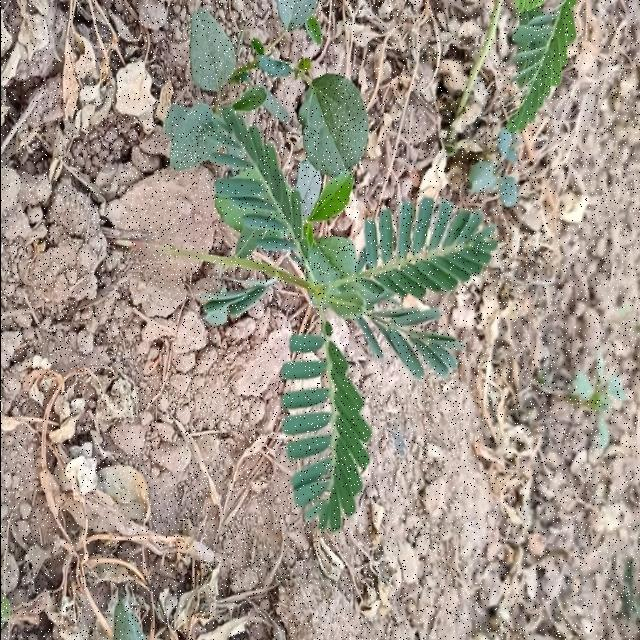plant: (136, 75, 495, 531), (191, 12, 298, 90)
